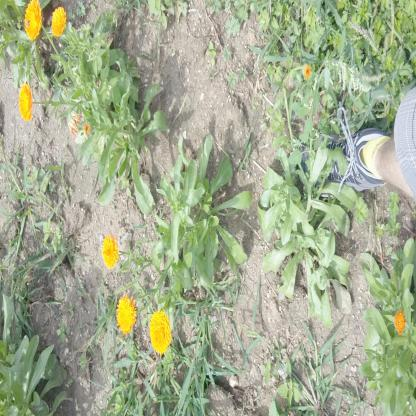marigold: (150, 311, 171, 353), (117, 296, 135, 333), (25, 2, 42, 38), (102, 235, 118, 268), (20, 84, 32, 120), (52, 7, 66, 36)
